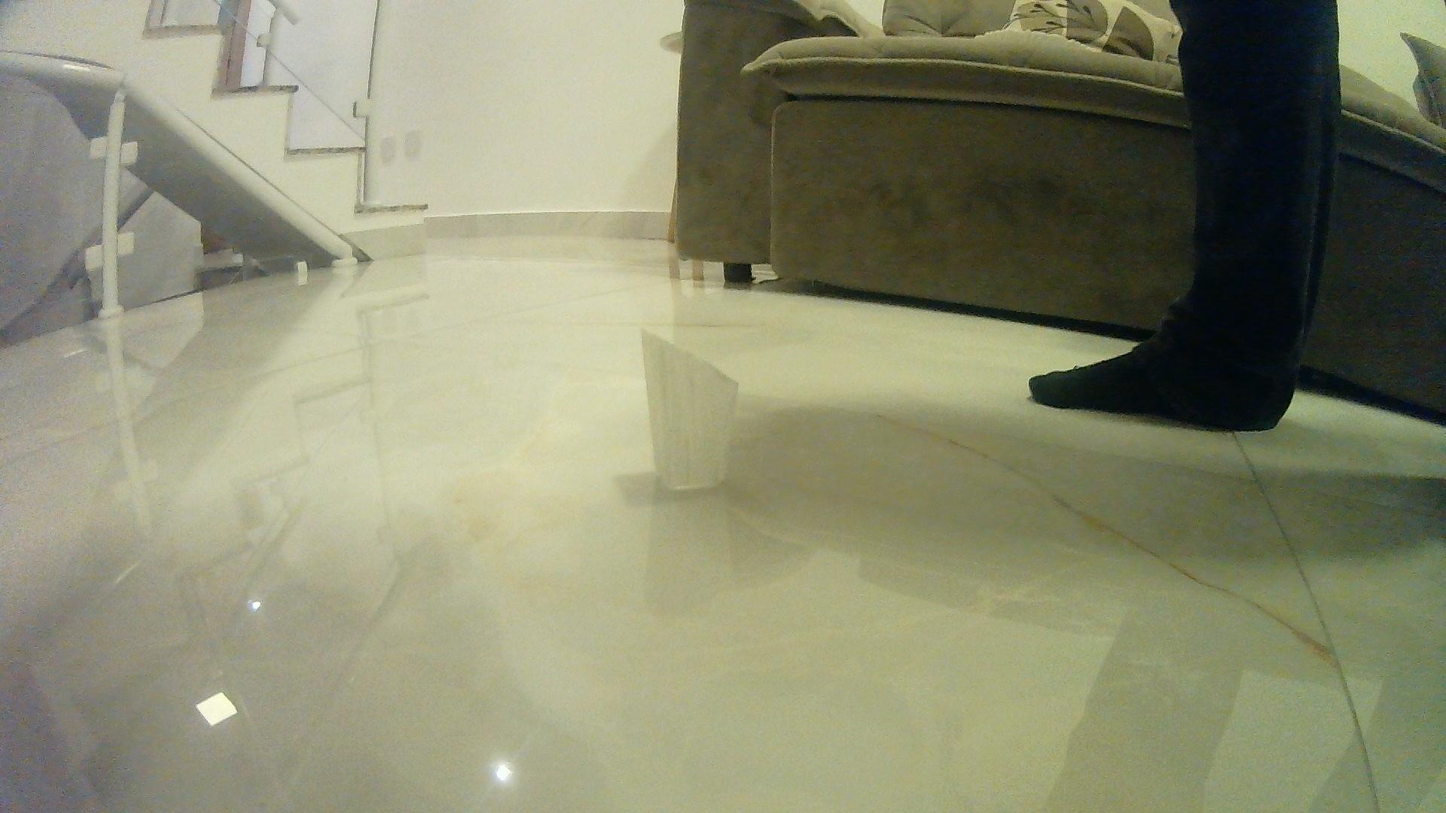erva_daninha: (633, 324, 746, 495)
